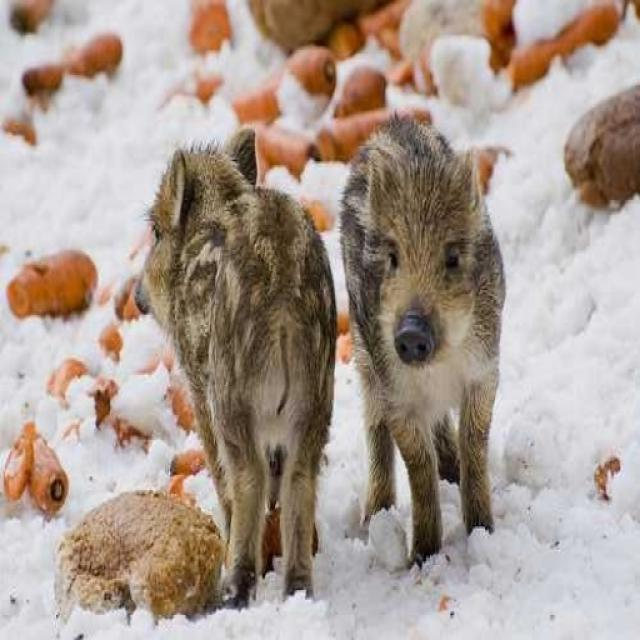pig: (283, 95, 613, 524), (110, 125, 369, 556)
